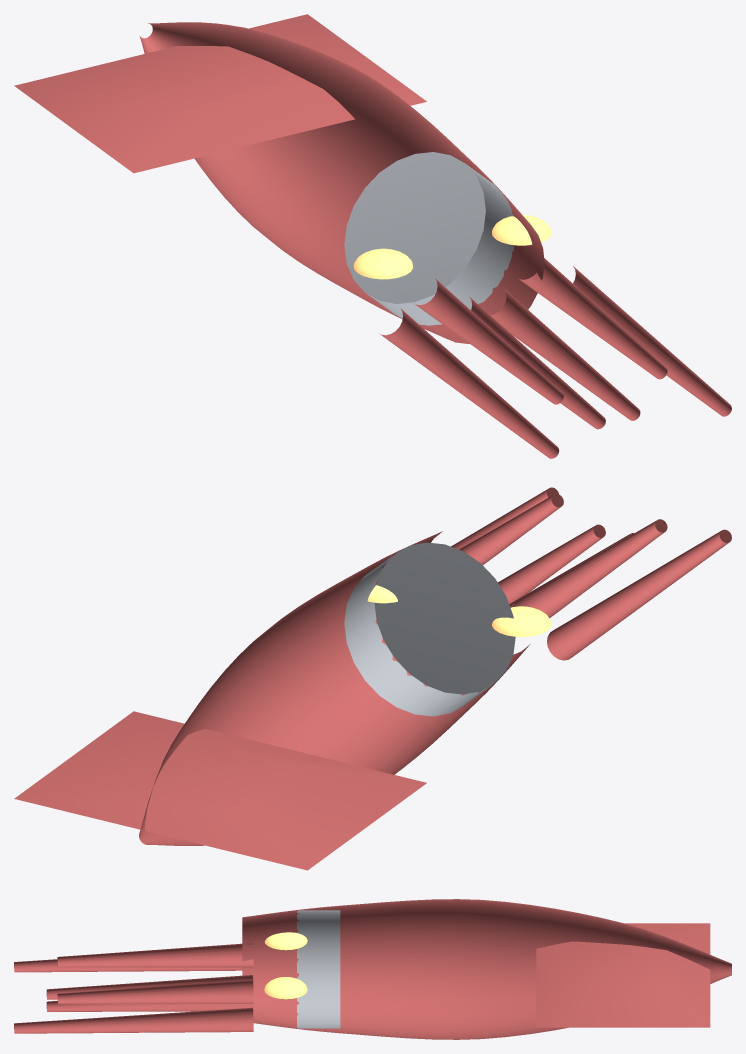
The model's file is sqd.glb.
3 views of the same model, one above another, from view 1: azimuth 30°, elevation 25°; view 2: azimuth 150°, elevation 25°; view 3: azimuth 270°, elevation 25° (orthographic). The views are drawn at different scales.
Visible parts, largest first — view 1: Hull; view 2: Hull; view 3: Hull.
Boxes of the visible parts, box(x1,y1,x2,y2) form: Hull: box(14, 14, 731, 458); Hull: box(14, 487, 731, 870); Hull: box(14, 899, 731, 1039).
Bounding box in the file's own units: 1.36 × 0.7766 × 3.96.
